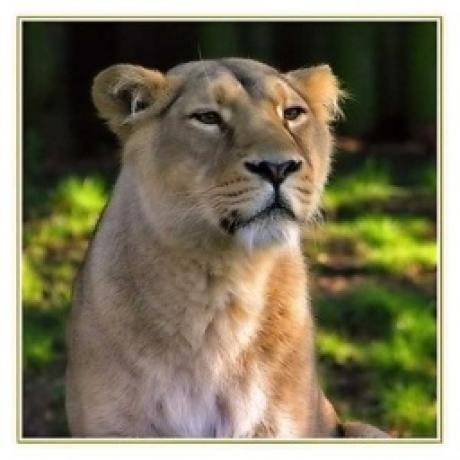Lion: (64, 56, 390, 442)
